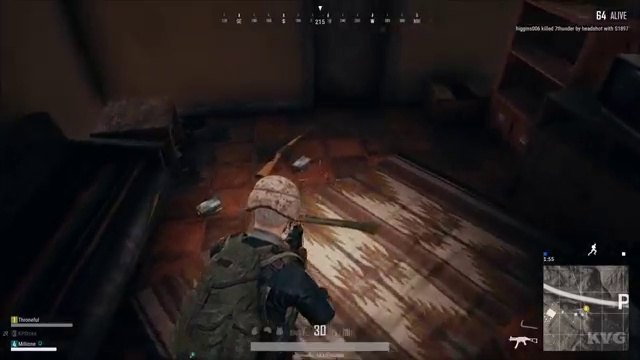Player: (201, 183, 337, 320)
